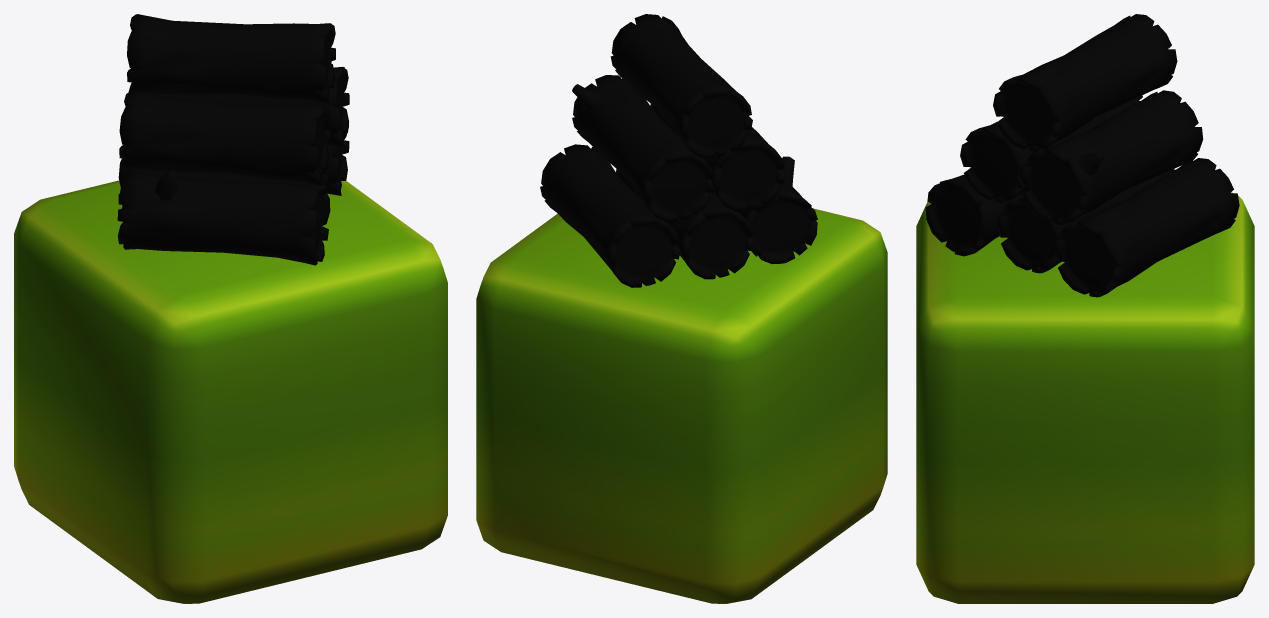
The model's file is block_tree_1.fbx.
The picture shows the model from 3 angles, left to right: view 1: azimuth 30°, elevation 25°; view 2: azimuth 150°, elevation 25°; view 3: azimuth 270°, elevation 25°; orthographic projection. The views are drawn at different scales.
Visible parts, largest first — view 1: block_tree_1; view 2: block_tree_1; view 3: block_tree_1.
Part boxes in pixels (<box>): block_tree_1: <box>14,14,447,603</box>; block_tree_1: <box>476,14,887,603</box>; block_tree_1: <box>916,14,1254,603</box>.
Size of the model in its own units: 200 by 328 by 200.
